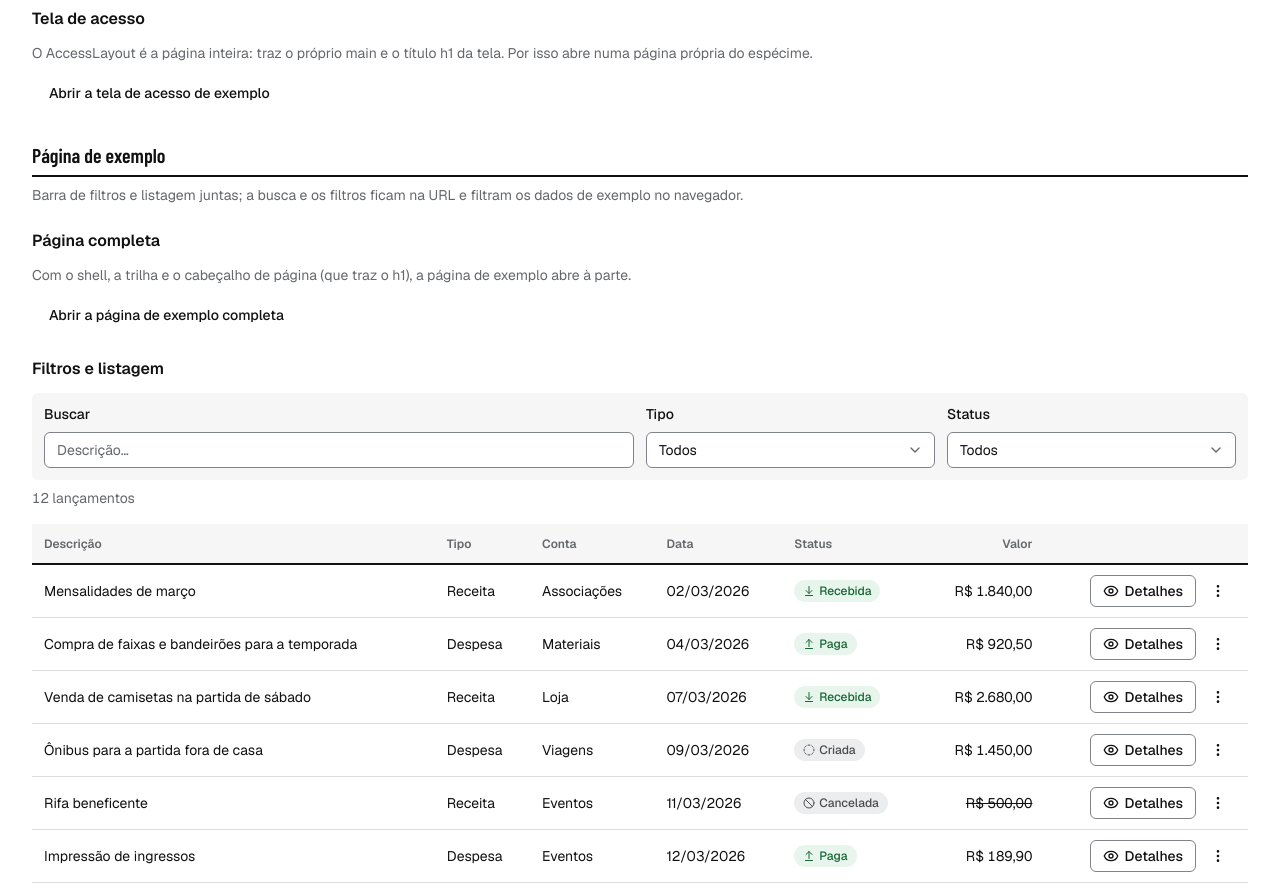
Scenario: página de exemplo › a busca e os filtros filtram a listagem de exemplo e ficam na URL
This screenshot has width=1280, height=892.
(page scrolled)
Check: the text "12 lançamentos" is shown, box [32, 489, 135, 507]
Select "Despesa" in the dropdown labelled "Tipo" at (790,450), box [646, 432, 935, 468]
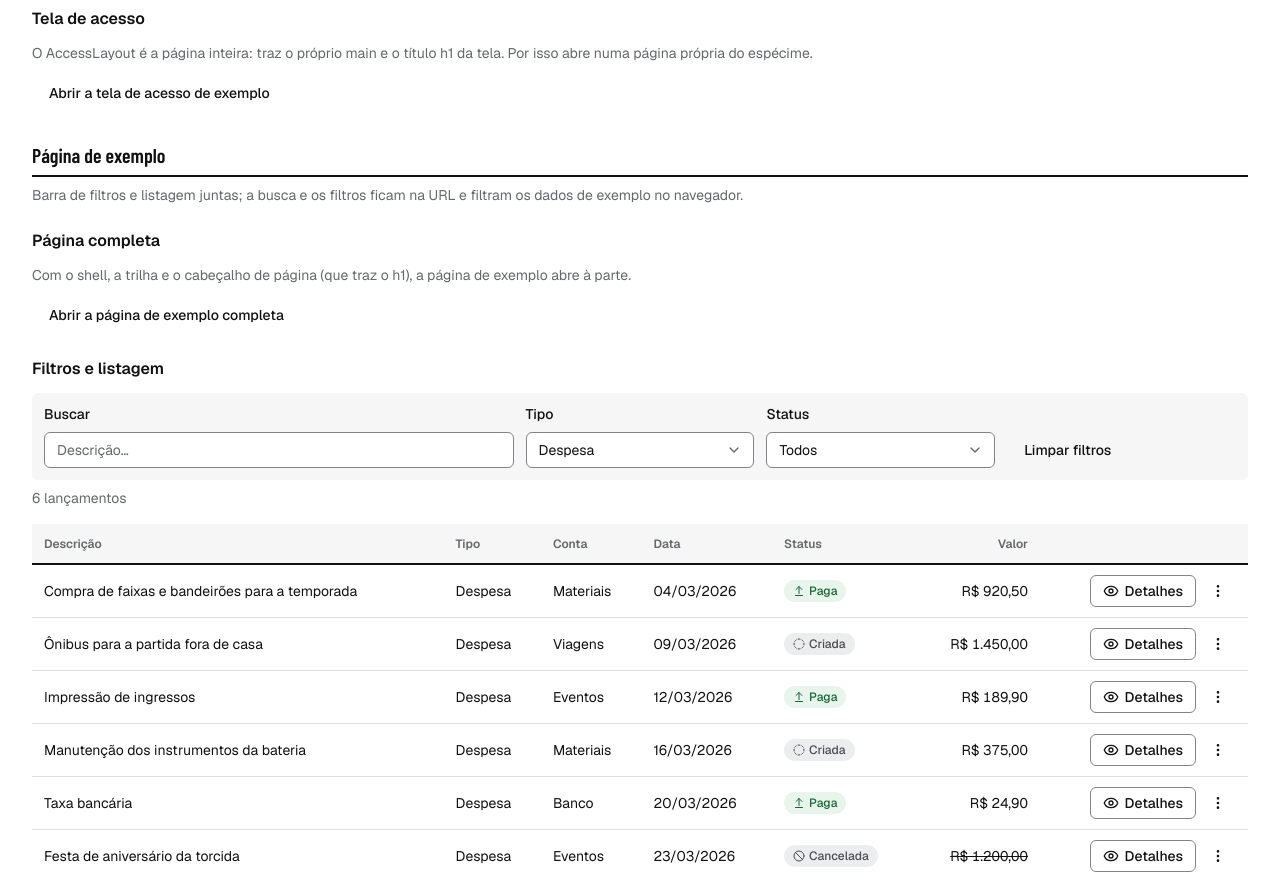
Check: the text "6 lançamentos" is shown, box [32, 489, 126, 507]
Type "onibus" into the search field labelled "Buscar" at (279,450), box [44, 432, 514, 468]
(page scrolled)
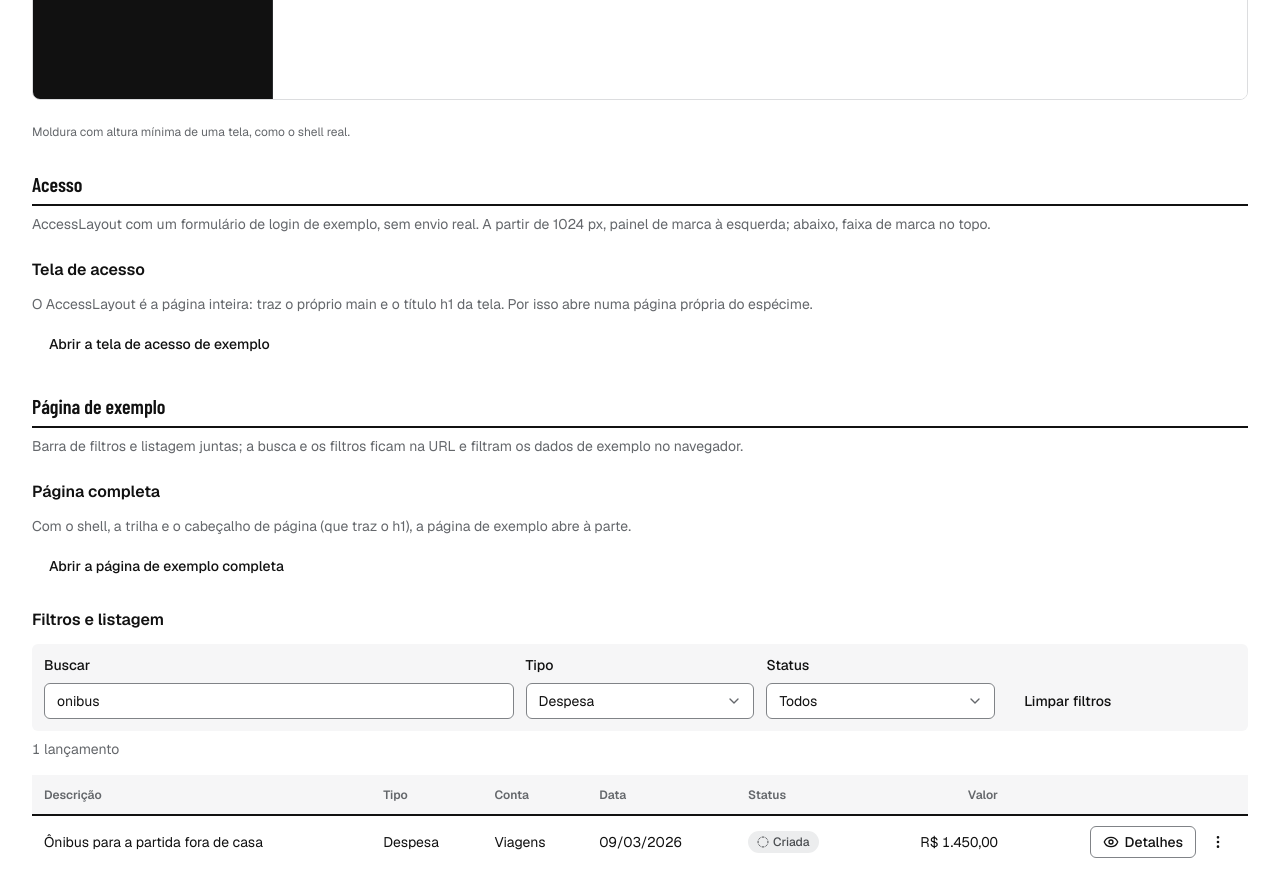
Check: the text "1 lançamento" is shown, box [32, 740, 119, 758]
Select "Paga" in the dropdown labelled "Status" at (881,701), box [766, 683, 995, 719]
(page scrolled)
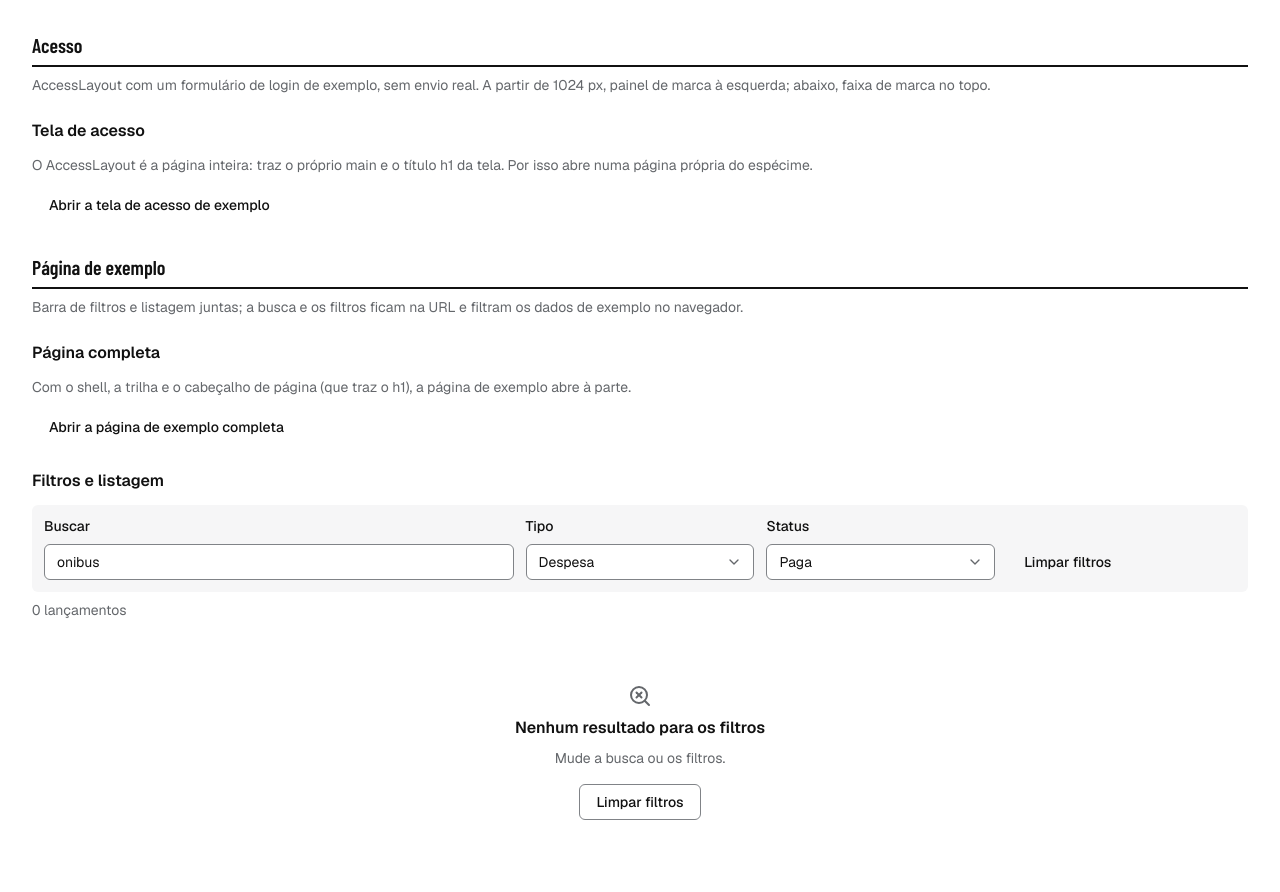
Check: the heading "Nenhum resultado para os filtros" is shown, box [515, 716, 765, 740]
Click the 1st button "Limpar filtros" at (1068,562), box [1007, 544, 1128, 580]
(page scrolled)
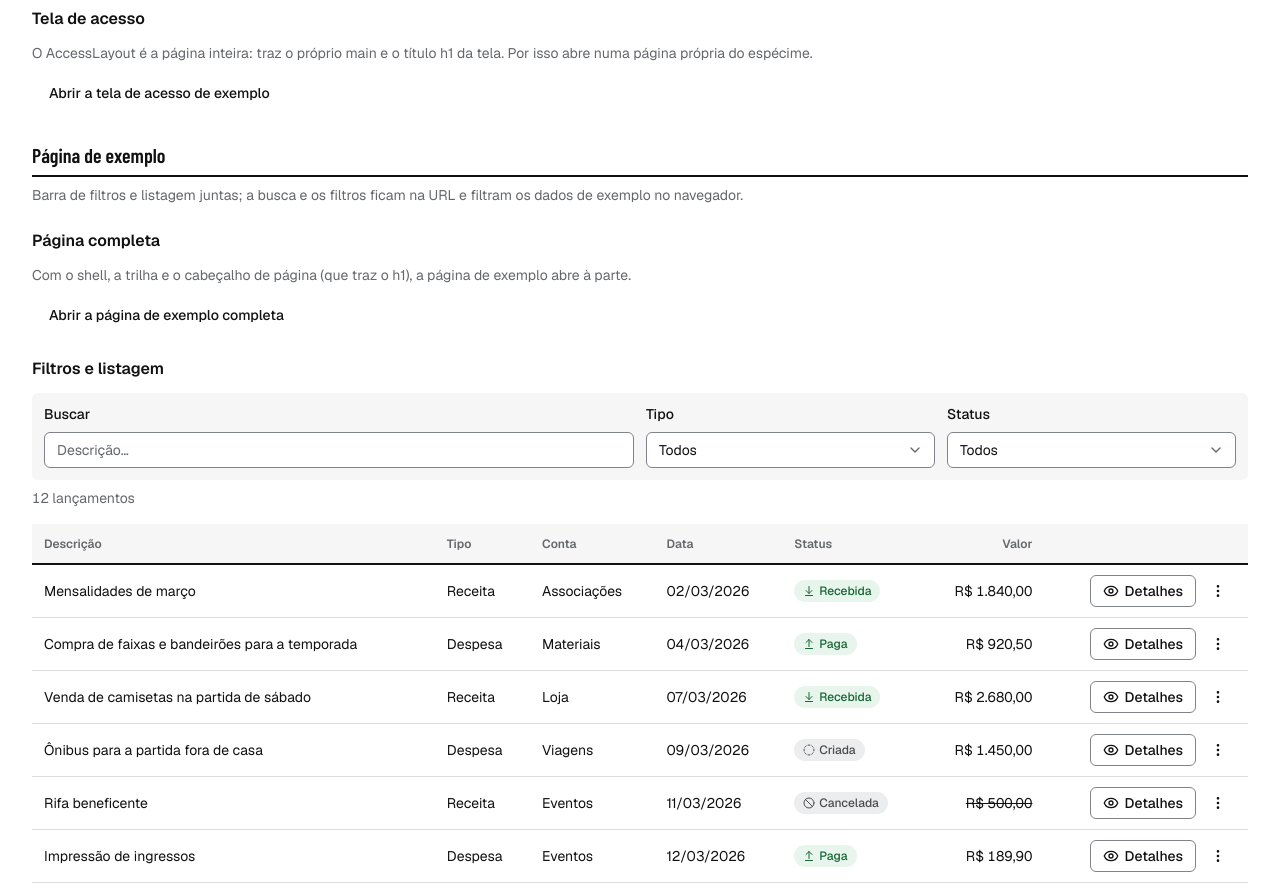
Check: the text "12 lançamentos" is shown, box [32, 489, 135, 507]
